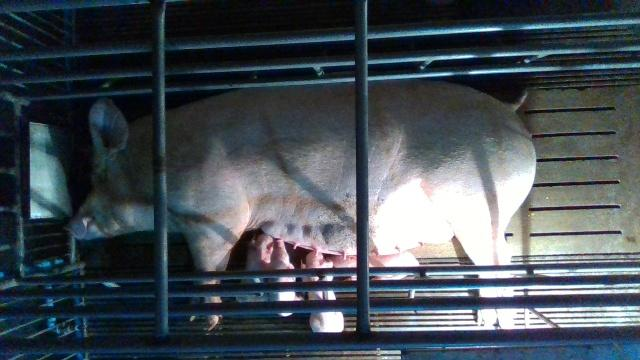piglet: (300, 250, 344, 333), (235, 233, 274, 303), (271, 238, 304, 317), (329, 252, 420, 280)
sow-sleep-lactate: (64, 77, 541, 327)
